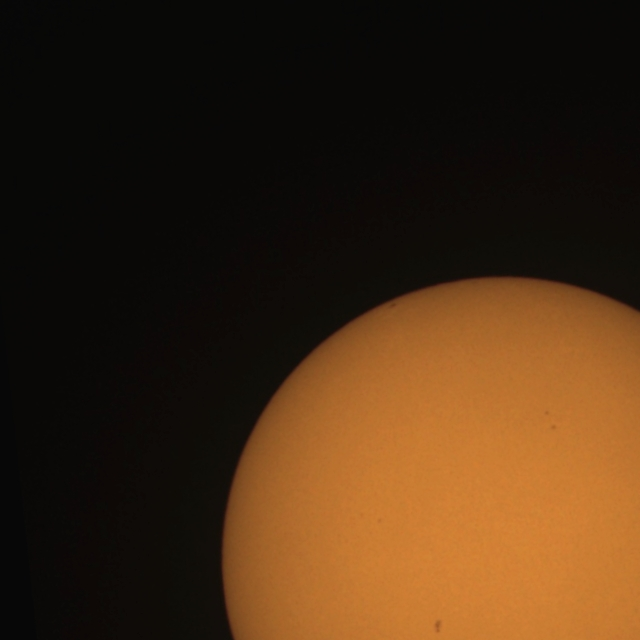sunspot: (544, 410, 558, 432), (433, 618, 443, 635), (548, 419, 558, 432), (544, 410, 550, 416)
